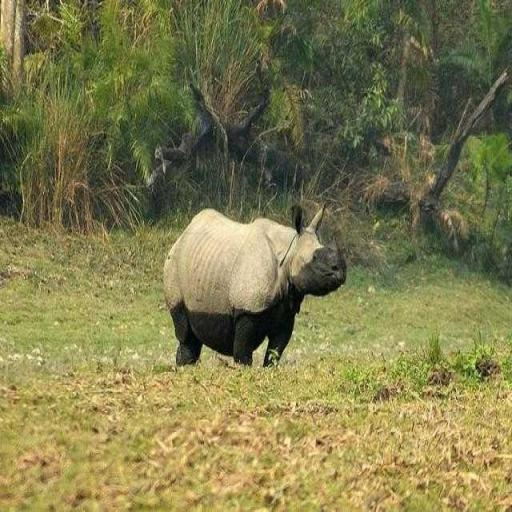Rhino: (162, 202, 347, 370)
